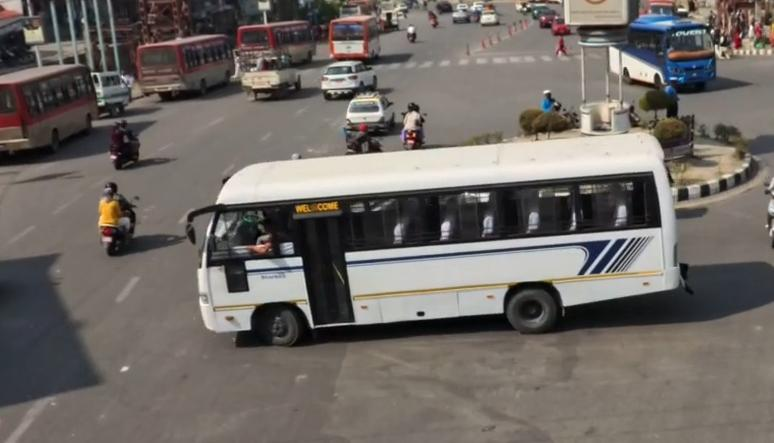bus: (183, 131, 694, 351)
